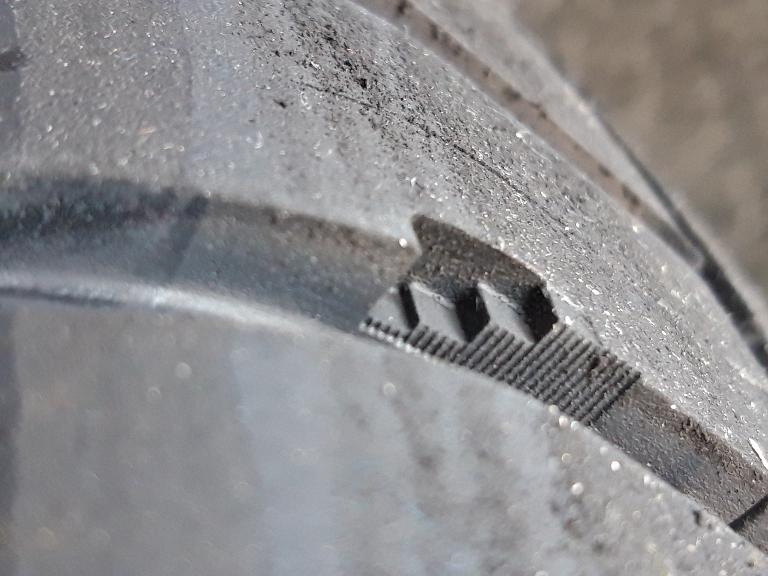temoin:75: (349, 199, 613, 428)
